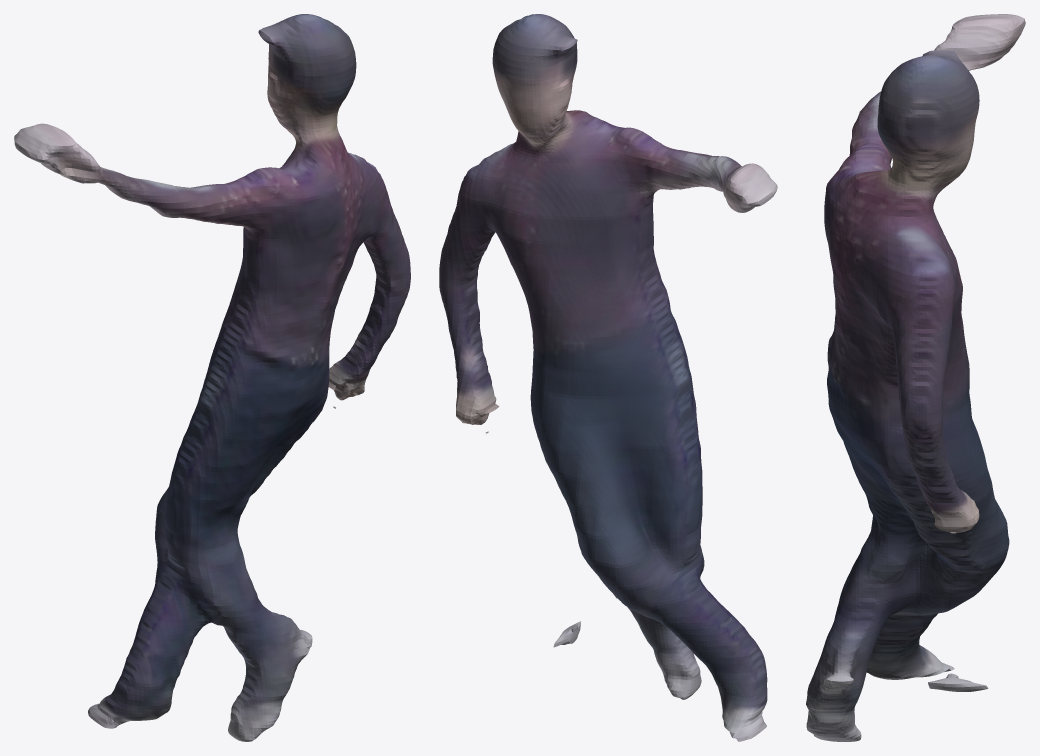
File: 0021_tex.glb
3 renders of one model, left to right at view 1: azimuth 30°, elevation 25°; view 2: azimuth 150°, elevation 25°; view 3: azimuth 270°, elevation 25°, orthographic. The views are drawn at different scales.
Parts seen in each view (by area): view 1: 0021_tex.obj; view 2: 0021_tex.obj; view 3: 0021_tex.obj.
Part boxes in pixels (x1=…): 0021_tex.obj: x1=14, y1=14, x2=410, y2=741; 0021_tex.obj: x1=439, y1=14, x2=777, y2=741; 0021_tex.obj: x1=806, y1=14, x2=1025, y2=741.
Size of the model in its own units: 0.4987 by 0.8976 by 0.2418.
